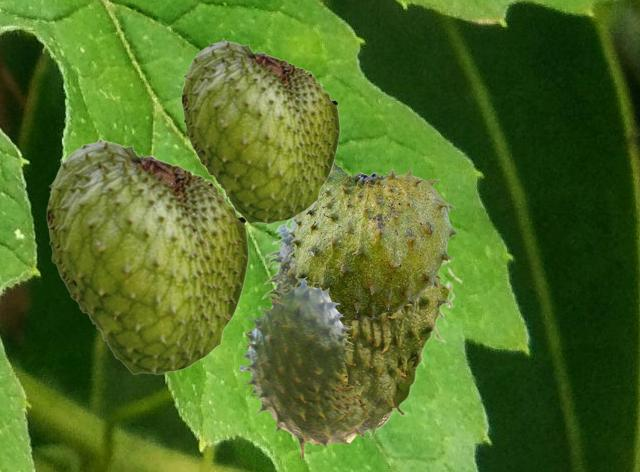guyabano: (46, 136, 248, 374), (261, 220, 462, 438), (181, 37, 339, 223), (287, 161, 458, 323), (239, 277, 369, 459)
